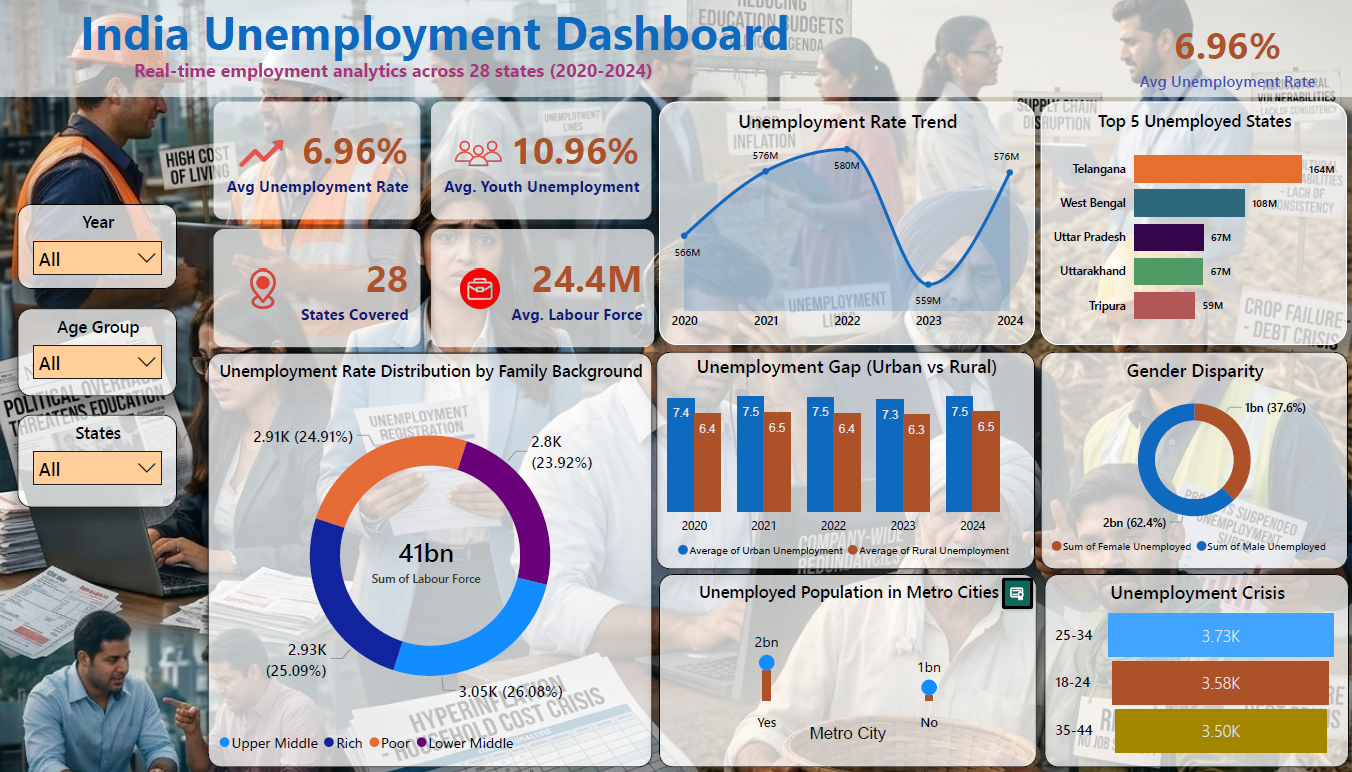

Layout of this report page (visuals, bound fields, positions):
{"tool":"powerbi","page":{"name":"Unemployment_Analysis_Dashboard","canvas":[1400,800],"ordinal":0},"visuals":[{"type":"shape","box":[0,0,1400.1,99.5],"z":0},{"type":"shape","box":[54.5,0,792.1,62.7],"z":1000},{"type":"shape","box":[117.2,50.4,582.1,43.6],"z":2000},{"type":"cardVisual","fields":{"Data":["cleaned_unemployment_data.Avg Unemployment Rate"]},"box":[1148.2,0,247.6,114.1],"z":3000},{"type":"cardVisual","fields":{"Data":["cleaned_unemployment_data.Avg Unemployment Rate"]},"box":[216.8,99.5,225,132.2],"z":4000},{"type":"image","box":[239.9,135,64.1,47.7],"z":5000},{"type":"cardVisual","fields":{"Data":["cleaned_unemployment_data.Avg. Youth Unemployment"]},"box":[441.7,99.5,238.6,132.2],"z":6000},{"type":"cardVisual","fields":{"Data":["cleaned_unemployment_data.Avg. Labour Force"]},"box":[441.7,231.8,241.3,132.2],"z":7000},{"type":"image","box":[463.5,135,64.1,47.7],"z":8000},{"type":"cardVisual","fields":{"Data":["cleaned_unemployment_data.States Covered"]},"box":[216.8,231.8,225,132.2],"z":9000},{"type":"image","box":[471.7,278.1,50.4,40.9],"z":10000},{"type":"image","box":[248.1,278.1,50.4,40.9],"z":11000},{"type":"lineChart","title":"Unemployment Rate Trend","fields":{"Category":["cleaned_unemployment_data.Year"],"Y":["Sum(cleaned_unemployment_data.Unemployed People)"]},"box":[683,105,388.6,252.2],"z":12000},{"type":"clusteredBarChart","title":"Top 5 Unemployed States","fields":{"Category":["cleaned_unemployment_data.State"],"Y":["Sum(cleaned_unemployment_data.Unemployed People)"]},"box":[1078.4,105,317,252.2],"z":13000},{"type":"donutChart","title":"Gender Disparity","fields":{"Y":["Sum(cleaned_unemployment_data.Female Unemployed)","Sum(cleaned_unemployment_data.Male Unemployed)"]},"box":[1078.4,364,318,225],"z":14000},{"type":"clusteredColumnChartByAkvelonBE487DE8B8674A59A098B9B16C950BA","title":"Unemployment Gap (Urban vs Rural)","fields":{"Axis":["cleaned_unemployment_data.Year"],"Value":["Avg(cleaned_unemployment_data.Urban Unemployement )","Avg(cleaned_unemployment_data.Rural Unemployement )"]},"box":[680.3,364,391.3,225],"z":15000},{"type":"funnel","title":" Unemployment Crisis","fields":{"Y":["Sum(cleaned_unemployment_data.Youth Unemployement )"],"Category":["cleaned_unemployment_data.Age Group"]},"box":[1082.5,594.4,315,200],"z":16000},{"type":"donutChart","title":"Unemployment Rate Distribution by Family Background","fields":{"Y":["Sum(cleaned_unemployment_data.Unemployement Rate )"],"Category":["cleaned_unemployment_data.Family Background"]},"box":[216.1,364.7,460,429.2],"z":17000},{"type":"lollipopColumnChart0D874BBC87DE40189C387BBA89739F6C","title":"Unemployed Population in Metro Cities","fields":{"values":["Sum(cleaned_unemployment_data.Unemployed People)"],"axis":["cleaned_unemployment_data.Metro City"]},"box":[682.9,594.3,391,199.6],"z":18000},{"type":"cardVisual","fields":{"Data":["Sum(cleaned_unemployment_data.Labour Force)"]},"box":[355.7,537.3,172.6,85.5],"z":19000},{"type":"slicer","title":"Year","fields":{"Values":["cleaned_unemployment_data.Year"]},"box":[19.1,211.3,165,87.3],"z":20000},{"type":"slicer","title":"Age Group","fields":{"Values":["cleaned_unemployment_data.Age Group"]},"box":[19.1,319,165,91.3],"z":21000},{"type":"slicer","title":"States","fields":{"Values":["cleaned_unemployment_data.State"]},"box":[19.1,429.5,165,95.4],"z":22000}]}

Visuals, with their boxes in screenshot pixels (x1, y1, x2, y2), scaled from the page's 1400x800 canvas onto the 1352x772 screenshot:
shape: x1=0 y1=0 x2=1351 y2=96
shape: x1=53 y1=0 x2=818 y2=61
shape: x1=113 y1=49 x2=675 y2=91
cardVisual - cleaned_unemployment_data.Avg Unemployment Rate: x1=1109 y1=0 x2=1348 y2=110
cardVisual - cleaned_unemployment_data.Avg Unemployment Rate: x1=209 y1=96 x2=427 y2=224
image: x1=232 y1=130 x2=294 y2=176
cardVisual - cleaned_unemployment_data.Avg. Youth Unemployment: x1=427 y1=96 x2=657 y2=224
cardVisual - cleaned_unemployment_data.Avg. Labour Force: x1=427 y1=224 x2=660 y2=351
image: x1=448 y1=130 x2=510 y2=176
cardVisual - cleaned_unemployment_data.States Covered: x1=209 y1=224 x2=427 y2=351
image: x1=456 y1=268 x2=504 y2=308
image: x1=240 y1=268 x2=288 y2=308
"Unemployment Rate Trend" lineChart: x1=660 y1=101 x2=1035 y2=345
"Top 5 Unemployed States" clusteredBarChart: x1=1041 y1=101 x2=1348 y2=345
"Gender Disparity" donutChart: x1=1041 y1=351 x2=1349 y2=568
"Unemployment Gap (Urban vs Rural)" clusteredColumnChartByAkvelonBE487DE8B8674A59A098B9B16C950BA: x1=657 y1=351 x2=1035 y2=568
" Unemployment Crisis" funnel: x1=1045 y1=574 x2=1350 y2=767
"Unemployment Rate Distribution by Family Background" donutChart: x1=209 y1=352 x2=653 y2=766
"Unemployed Population in Metro Cities" lollipopColumnChart0D874BBC87DE40189C387BBA89739F6C: x1=659 y1=573 x2=1037 y2=766
cardVisual - Sum(cleaned_unemployment_data.Labour Force): x1=344 y1=518 x2=510 y2=601
"Year" slicer: x1=18 y1=204 x2=178 y2=288
"Age Group" slicer: x1=18 y1=308 x2=178 y2=396
"States" slicer: x1=18 y1=414 x2=178 y2=507
